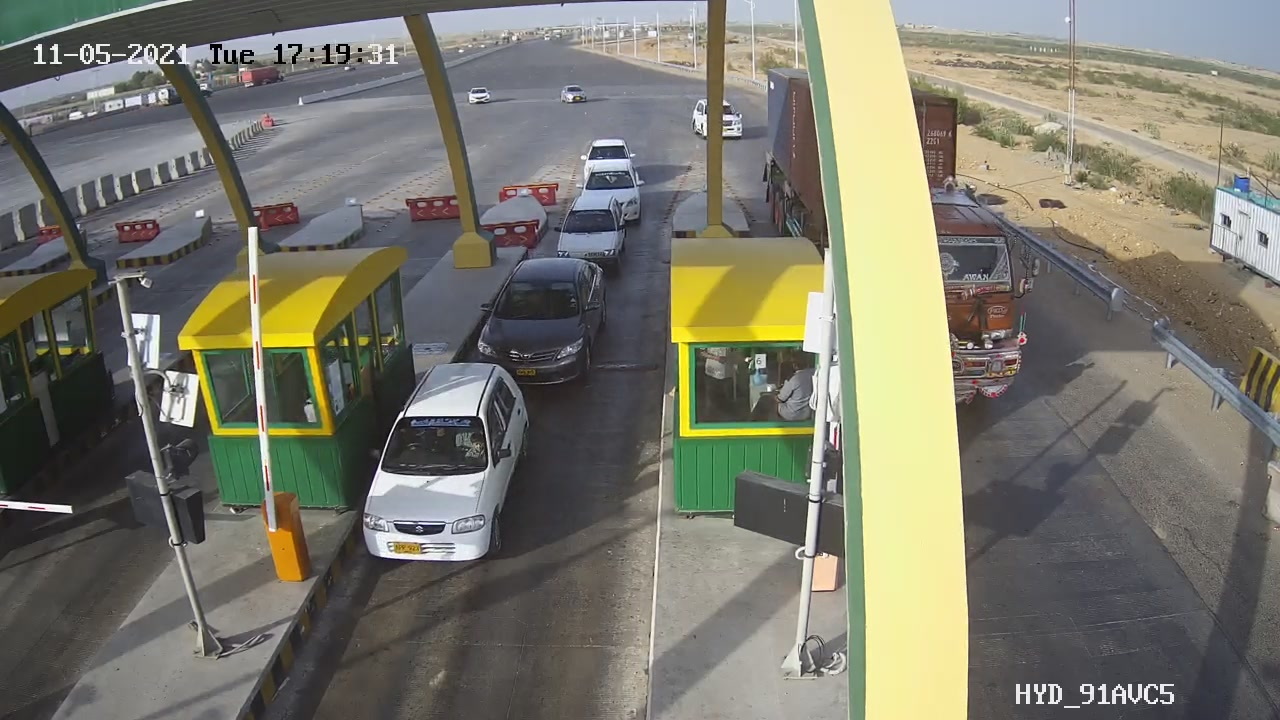F1: (344, 351, 542, 581), (465, 247, 620, 399), (547, 187, 639, 283)
